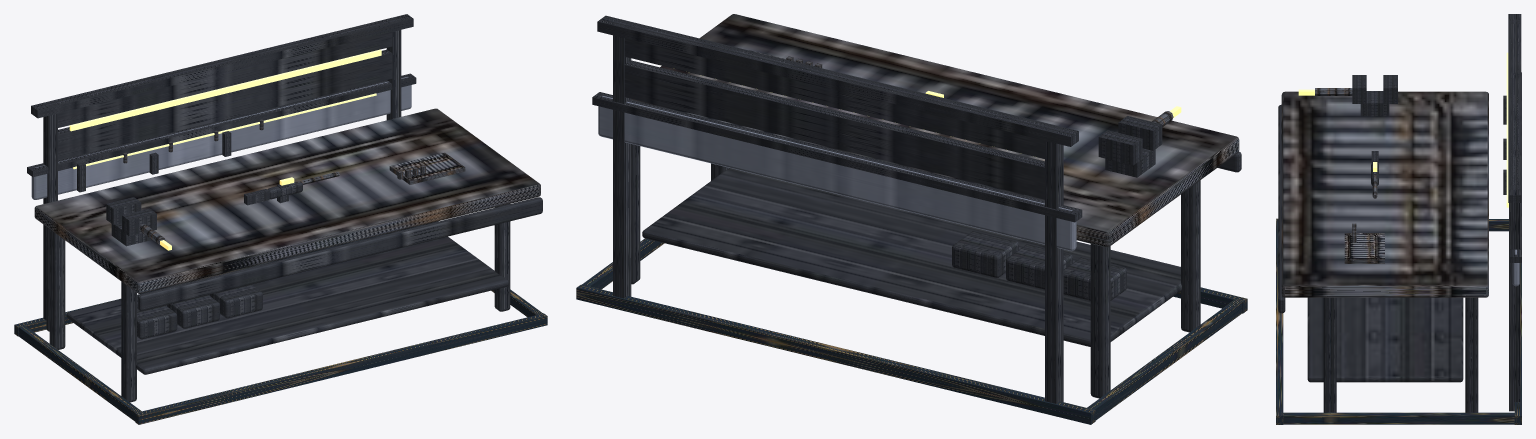
The model's file is armory_workbench.glb.
The picture shows the model from 3 angles, left to right: view 1: azimuth 30°, elevation 25°; view 2: azimuth 150°, elevation 25°; view 3: azimuth 270°, elevation 25°; orthographic projection. The views are drawn at different scales.
Parts seen in each view (by area): view 1: top, sight_shell, under, peg, apron, shelltoe0, shellrim0, sightglow, leg02, shelltoes0, leg00, leg20 (+9 smaller); view 2: sight_shell, under, top, peg, shelltoe2, shellrim2, leg02, shelltoes0, leg00, parts2, shellrim0, parts1 (+7 smaller); view 3: top, under, sight_shell, shelltoes2, leg20, leg22, tray, shelltoe0, apron, visebase, sightglow, shelltoe2 (+5 smaller).
Part boxes in pixels (x1=…): top: x1=34, y1=108, x2=540, y2=293; sight_shell: x1=31, y1=14, x2=413, y2=331; under: x1=66, y1=236, x2=508, y2=374; peg: x1=31, y1=77, x2=411, y2=199; apron: x1=137, y1=197, x2=542, y2=310; shelltoe0: x1=135, y1=313, x2=547, y2=424; shellrim0: x1=29, y1=75, x2=416, y2=177; sightglow: x1=69, y1=49, x2=381, y2=131; leg02: x1=49, y1=229, x2=65, y2=349; shelltoes0: x1=18, y1=325, x2=141, y2=421; leg00: x1=121, y1=281, x2=136, y2=402; leg20: x1=494, y1=204, x2=510, y2=311; sight_shell: x1=597, y1=15, x2=1078, y2=403; under: x1=642, y1=168, x2=1181, y2=346; top: x1=631, y1=14, x2=1239, y2=247; peg: x1=598, y1=96, x2=1076, y2=251; shelltoe2: x1=576, y1=284, x2=1095, y2=424; shellrim2: x1=592, y1=94, x2=1078, y2=222; leg02: x1=1090, y1=244, x2=1110, y2=398; shelltoes0: x1=1086, y1=299, x2=1242, y2=420; leg00: x1=1181, y1=180, x2=1200, y2=332; parts2: x1=952, y1=231, x2=1018, y2=277; shellrim0: x1=597, y1=92, x2=1082, y2=219; parts1: x1=1006, y1=244, x2=1072, y2=289; top: x1=1281, y1=91, x2=1488, y2=297; under: x1=1307, y1=297, x2=1463, y2=382; sight_shell: x1=1508, y1=14, x2=1521, y2=411; shelltoes2: x1=1281, y1=412, x2=1516, y2=424; leg20: x1=1323, y1=297, x2=1336, y2=412; leg22: x1=1465, y1=297, x2=1478, y2=412; tray: x1=1344, y1=233, x2=1384, y2=263; shelltoe0: x1=1276, y1=218, x2=1283, y2=424; apron: x1=1278, y1=104, x2=1285, y2=313; visebase: x1=1360, y1=91, x2=1389, y2=116; sightglow: x1=1506, y1=52, x2=1508, y2=207; shelltoe2: x1=1514, y1=263, x2=1521, y2=424.
Bounding box in the file's own units: 3.24 × 1.7 × 1.71.
7 materials, 5 textured.
